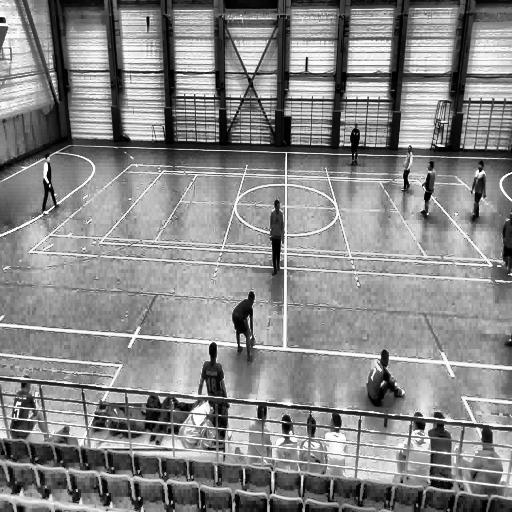ball: (249, 335, 257, 349)
player: (367, 348, 405, 424), (199, 340, 229, 421), (232, 290, 256, 362), (269, 198, 284, 275), (468, 159, 486, 223), (42, 151, 60, 213), (420, 160, 436, 220), (501, 210, 512, 278), (400, 145, 413, 193), (348, 125, 360, 166)
